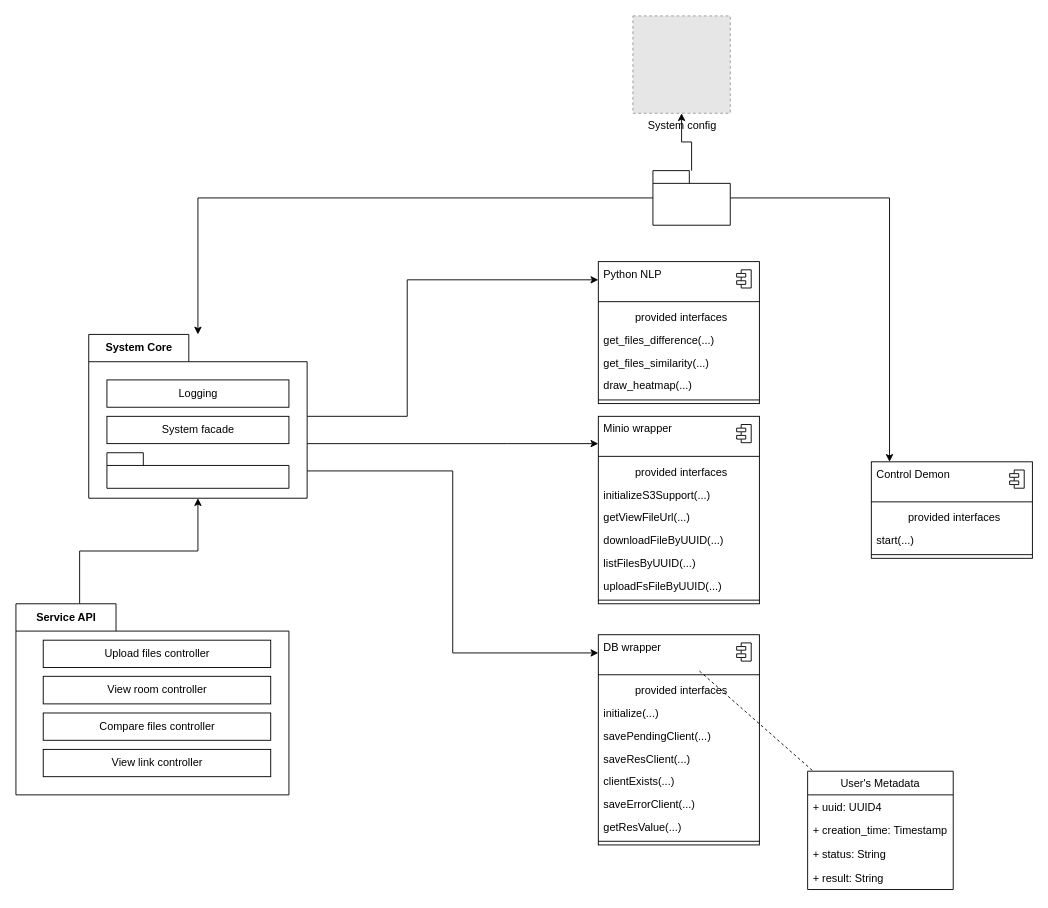
The diagram is 1048 pixels wide and 908 high, and some of its shapes have lost their labels. Grey dashed boxes stand in for pictures. The shapes that lost their labels are listed below. From the top down, each one's centre as x and y in pixels, then its label:
At point 691,197: "Main app".
At point 197,470: "Utils".
